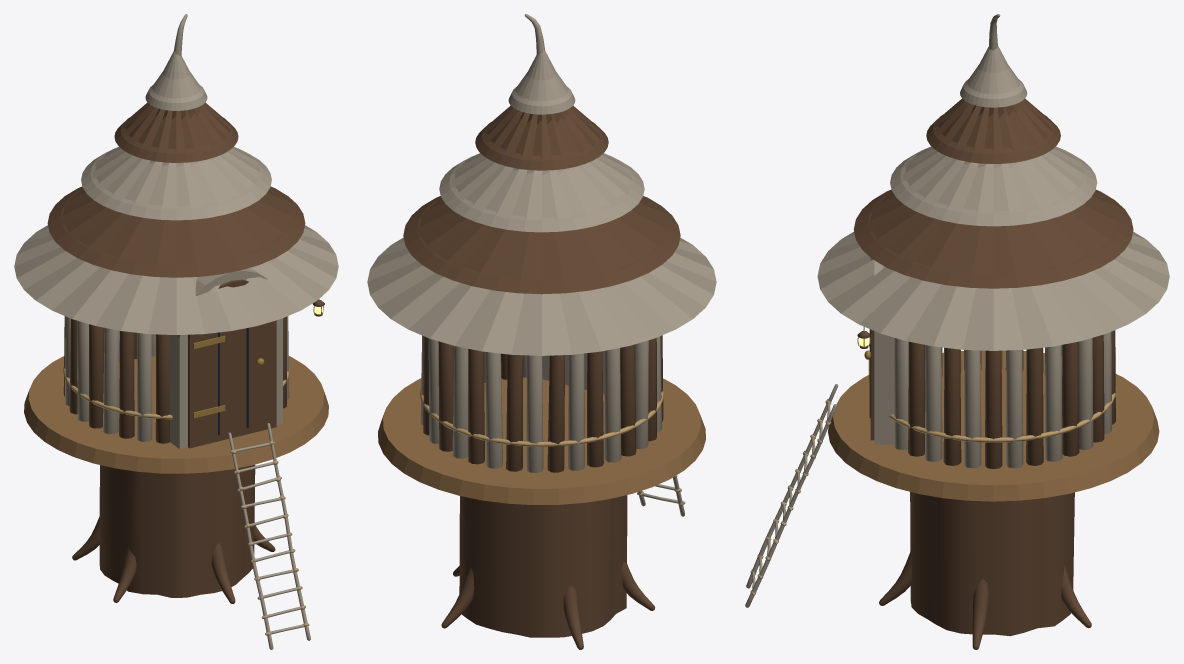
File: sh_stilt_hut.fbx
3 views of the same model, side by side, from view 1: azimuth 30°, elevation 25°; view 2: azimuth 150°, elevation 25°; view 3: azimuth 270°, elevation 25° (orthographic). The views are drawn at different scales.
Parts seen in each view (by area): view 1: SH_Stilt_Hut; view 2: SH_Stilt_Hut; view 3: SH_Stilt_Hut.
Boxes of the visible parts, left/top/right/bottom form: SH_Stilt_Hut: left=14, top=14, right=338, bottom=649; SH_Stilt_Hut: left=367, top=14, right=716, bottom=649; SH_Stilt_Hut: left=745, top=14, right=1169, bottom=649.
Size of the model in its own units: 136 by 254 by 164.
